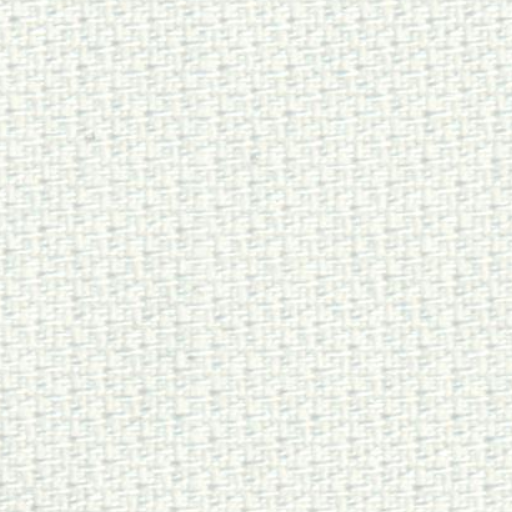TuoSha: (169, 26, 245, 503)
